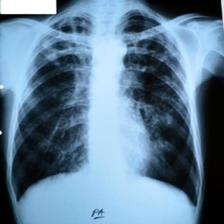tuberculosis: (7, 8, 203, 214)
